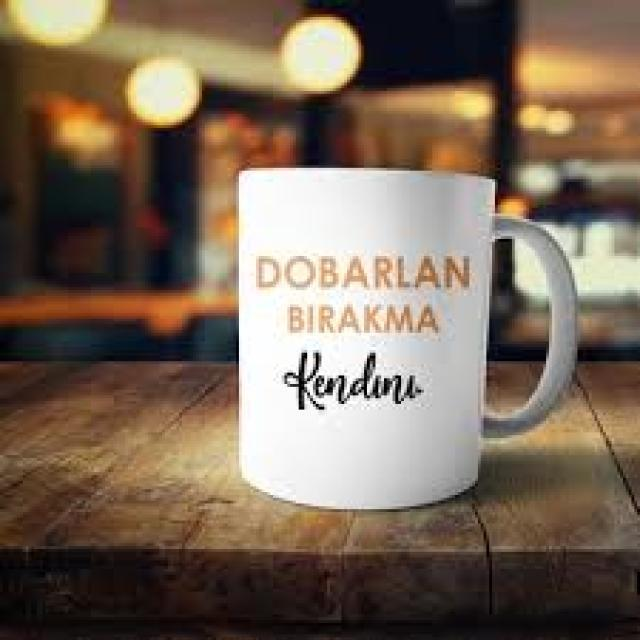taza: (237, 166, 579, 511)
